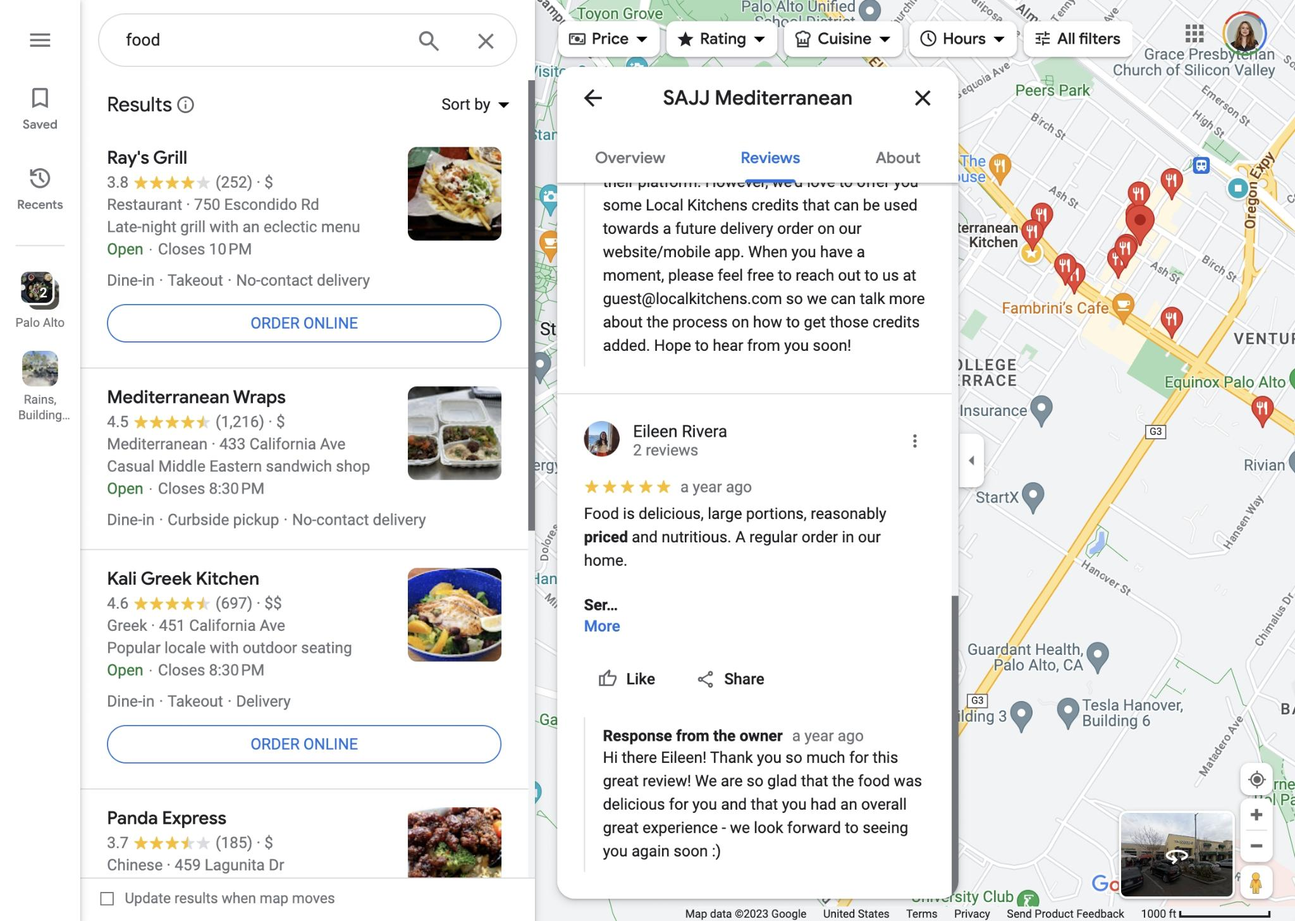webelement: (0, 0, 1294, 920), (79, 79, 534, 876), (556, 420, 950, 871), (79, 128, 527, 366), (79, 549, 527, 787), (79, 368, 527, 548), (0, 0, 79, 920), (79, 789, 527, 921), (541, 14, 1144, 62), (97, 13, 516, 66), (556, 128, 957, 181), (106, 295, 500, 348), (106, 717, 500, 770), (583, 504, 889, 569), (1118, 810, 1233, 898), (632, 421, 897, 459), (556, 375, 950, 393), (556, 393, 950, 411), (556, 880, 950, 898), (125, 26, 396, 52), (0, 341, 79, 425), (100, 884, 334, 912), (685, 906, 1140, 920), (783, 14, 901, 62), (576, 128, 682, 181), (0, 263, 79, 332), (665, 14, 776, 62), (1023, 14, 1133, 62), (909, 14, 1016, 62), (722, 128, 817, 181), (106, 457, 368, 476), (0, 75, 79, 137), (0, 155, 79, 217), (557, 14, 658, 62), (662, 85, 851, 110), (427, 79, 520, 128), (106, 218, 359, 236), (106, 639, 351, 657), (857, 128, 937, 181), (106, 878, 322, 897), (79, 260, 527, 269), (79, 499, 527, 508), (79, 681, 527, 690), (681, 658, 781, 698), (583, 658, 672, 698), (106, 410, 263, 432), (602, 727, 781, 745), (106, 170, 252, 192), (106, 592, 252, 614), (106, 831, 252, 853), (0, 17, 79, 57), (455, 14, 515, 65), (402, 13, 455, 66), (565, 70, 618, 123), (895, 70, 948, 123), (291, 510, 425, 529), (236, 271, 369, 289), (143, 479, 264, 498), (218, 435, 344, 453), (158, 617, 284, 635), (193, 195, 318, 213), (79, 291, 527, 296), (79, 712, 527, 717), (143, 661, 264, 679), (166, 510, 278, 529), (1089, 870, 1162, 899), (174, 856, 283, 875), (583, 599, 620, 653), (162, 82, 206, 126), (143, 240, 250, 258), (143, 900, 243, 919), (106, 435, 206, 453), (1140, 907, 1270, 920), (1006, 906, 1123, 920), (684, 907, 806, 920), (583, 420, 618, 462), (1057, 27, 1120, 49), (957, 434, 983, 487), (786, 727, 862, 745), (106, 195, 181, 213), (583, 478, 672, 493), (21, 350, 57, 386), (679, 477, 750, 495), (817, 27, 870, 49), (1177, 16, 1210, 49), (1227, 16, 1260, 49), (440, 93, 489, 115), (1239, 797, 1271, 830), (1239, 865, 1271, 898), (106, 856, 161, 875), (699, 27, 746, 49), (1239, 762, 1271, 794), (1239, 829, 1271, 861), (166, 271, 222, 289), (166, 692, 222, 710), (235, 692, 290, 710), (20, 271, 51, 302), (27, 278, 58, 309), (942, 27, 985, 49), (823, 906, 888, 920), (106, 510, 153, 529), (106, 271, 153, 289), (106, 692, 153, 710), (591, 27, 627, 49), (106, 617, 146, 635), (106, 479, 143, 498), (106, 900, 143, 919), (106, 240, 143, 258), (106, 661, 143, 679), (583, 617, 620, 635), (583, 595, 616, 613), (959, 448, 983, 472), (724, 668, 764, 682), (904, 430, 924, 456), (953, 906, 988, 920), (24, 282, 47, 302), (1140, 907, 1175, 920), (905, 906, 936, 920), (566, 28, 586, 48), (674, 28, 694, 48), (917, 28, 937, 48), (1032, 28, 1052, 48), (626, 668, 654, 682), (793, 28, 812, 48), (174, 94, 194, 113), (263, 412, 283, 431), (252, 833, 272, 852), (597, 668, 616, 688), (695, 668, 714, 688), (252, 173, 272, 191), (263, 594, 281, 612), (654, 478, 670, 493), (583, 478, 598, 493), (601, 478, 616, 493), (619, 478, 634, 493), (637, 478, 652, 493), (275, 412, 284, 431), (263, 833, 272, 852), (263, 173, 272, 191)
